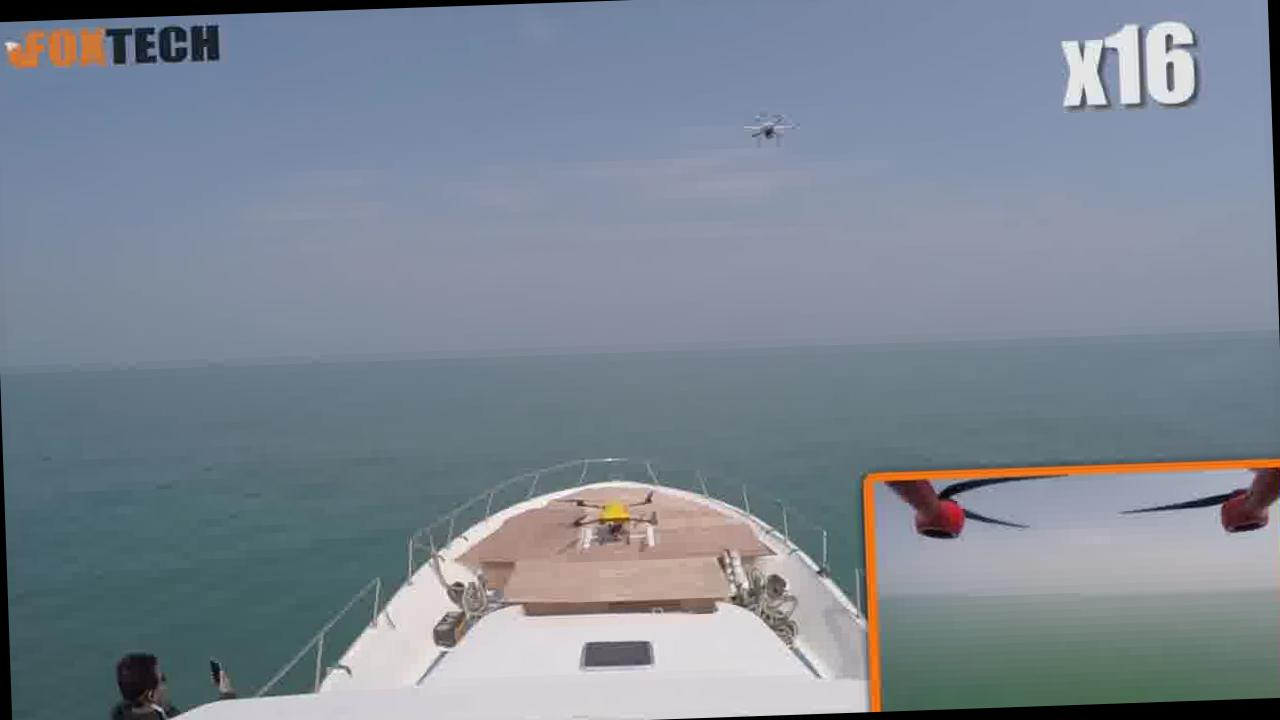drone: (542, 476, 688, 546), (724, 89, 806, 149)
